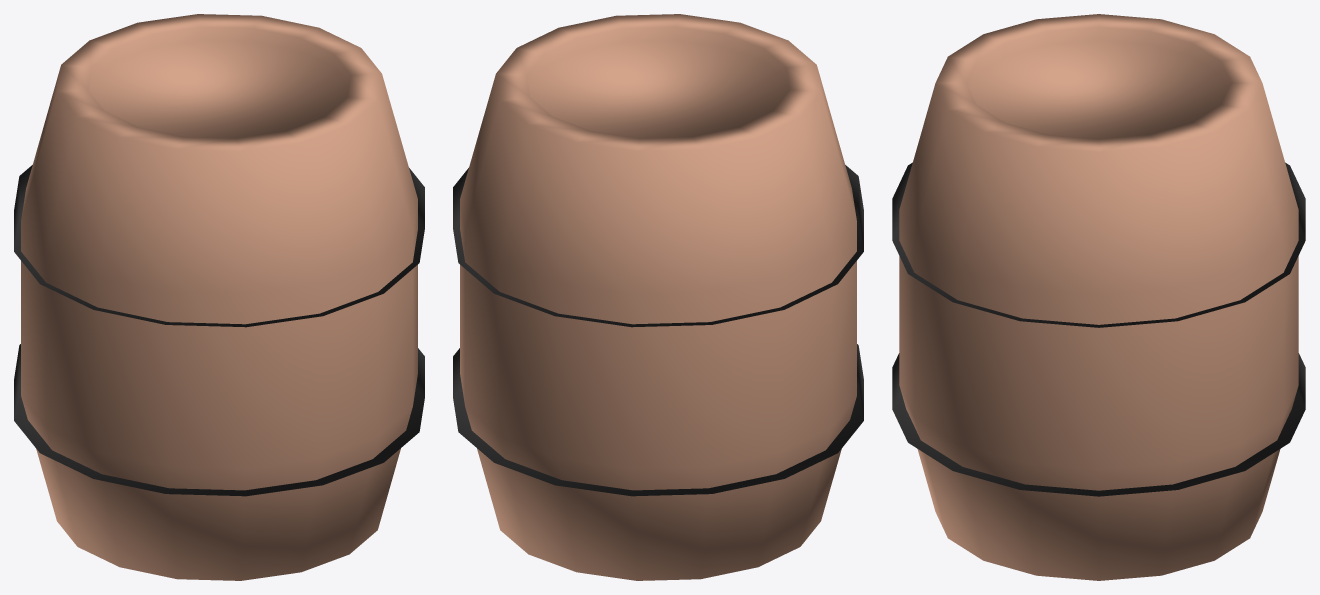
Rendered from Barrel.fbx.
3 views of the same model, side by side, from view 1: azimuth 30°, elevation 25°; view 2: azimuth 150°, elevation 25°; view 3: azimuth 270°, elevation 25° (orthographic).
Parts seen in each view (by area): view 1: Cylinder; view 2: Cylinder; view 3: Cylinder.
Part boxes in pixels (bbox=[...]): Cylinder: bbox=[14, 14, 424, 580]; Cylinder: bbox=[453, 14, 863, 580]; Cylinder: bbox=[892, 14, 1305, 580].
Bounding box in the file's own units: 253 × 289 × 253.
